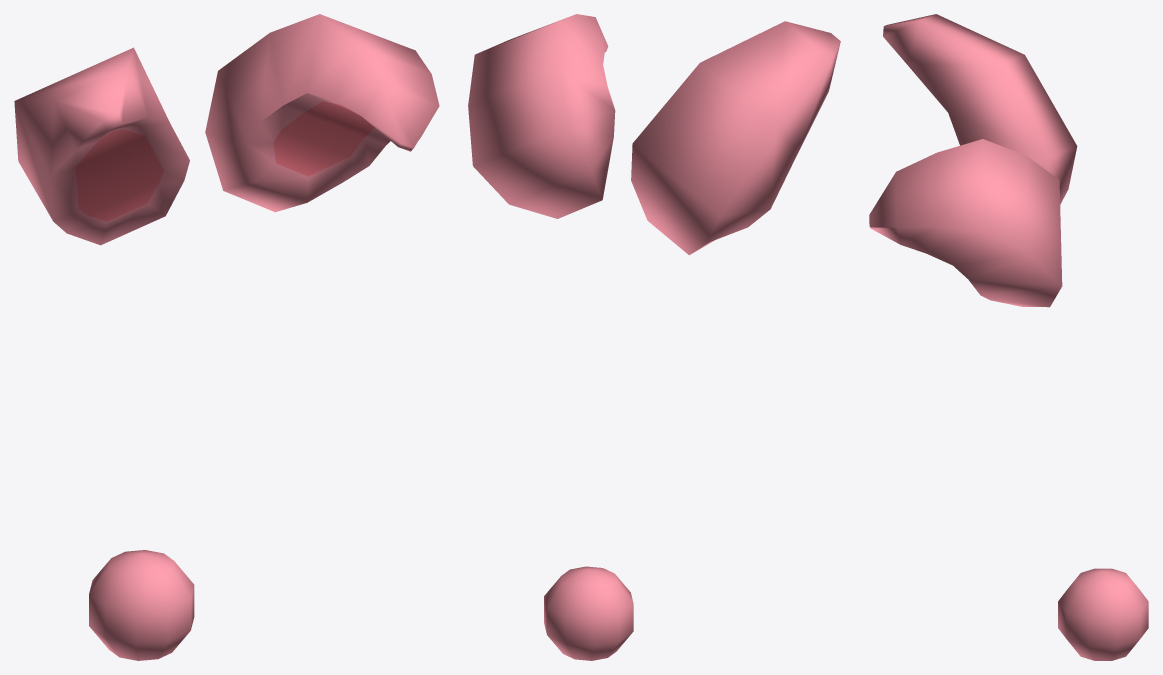
Rendered from Bunny.fbx.
3 renders of one model, left to right at view 1: azimuth 30°, elevation 25°; view 2: azimuth 150°, elevation 25°; view 3: azimuth 270°, elevation 25°, orthographic. The views are drawn at different scales.
Parts seen in each view (by area): view 1: Bunny_Ears, Bunny_Tail; view 2: Bunny_Ears, Bunny_Tail; view 3: Bunny_Ears, Bunny_Tail.
Boxes of the visible parts, x1=… form: Bunny_Ears: x1=14, y1=14, x2=439, y2=245; Bunny_Tail: x1=89, y1=550, x2=194, y2=660; Bunny_Ears: x1=468, y1=14, x2=840, y2=255; Bunny_Tail: x1=544, y1=566, x2=633, y2=660; Bunny_Ears: x1=869, y1=14, x2=1077, y2=307; Bunny_Tail: x1=1058, y1=568, x2=1148, y2=660.
Size of the model in its own units: 188 by 322 by 139.
